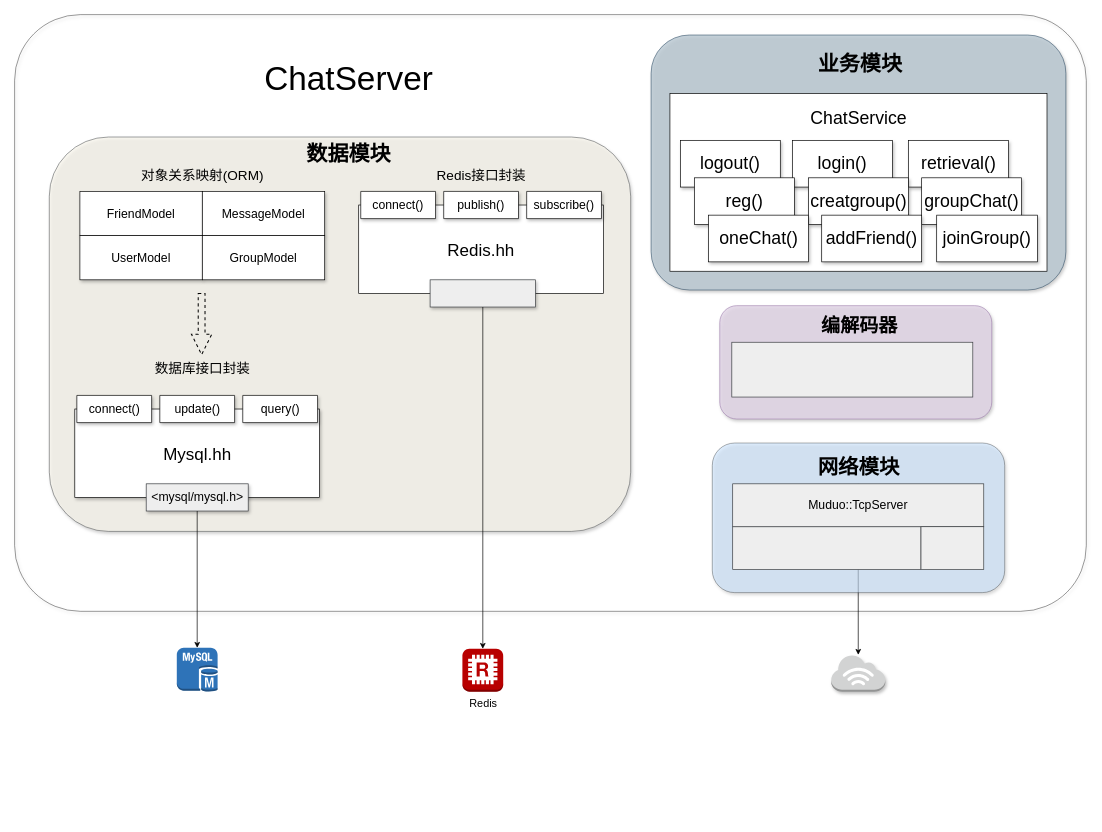
The diagram is 1102 pixels wide and 832 high, and some of its shapes have lost their labels. Here are the shapes that lost their labels. From the top down, the centre of each, then its label:
the point at 483,294: <hiredis/hiredis.h>
the point at 852,369: nlohmann::json
the point at 826,548: Reactor + One Loop per thread
the point at 952,548: Acceptor
the point at 197,669: Mysql
the point at 858,673: 网络
